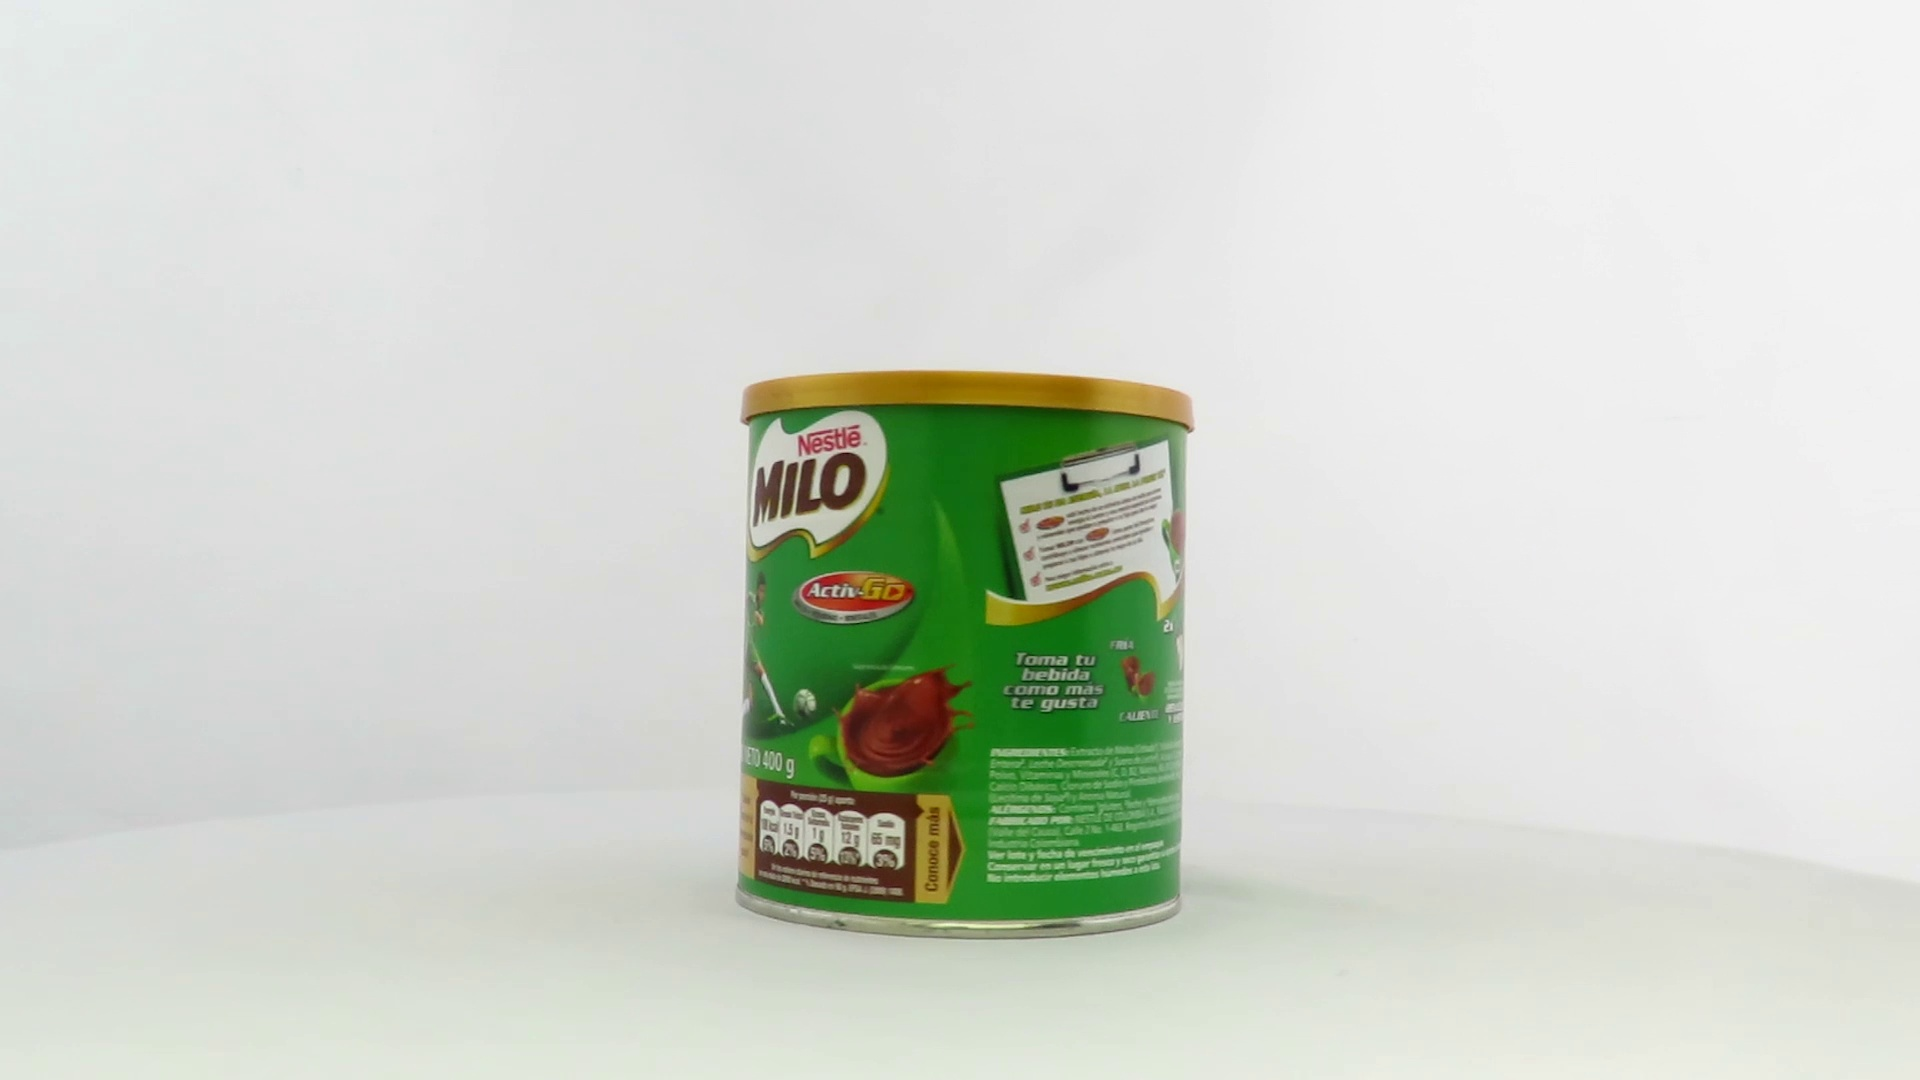COL0170203LAT40000: (731, 365, 1201, 945)
